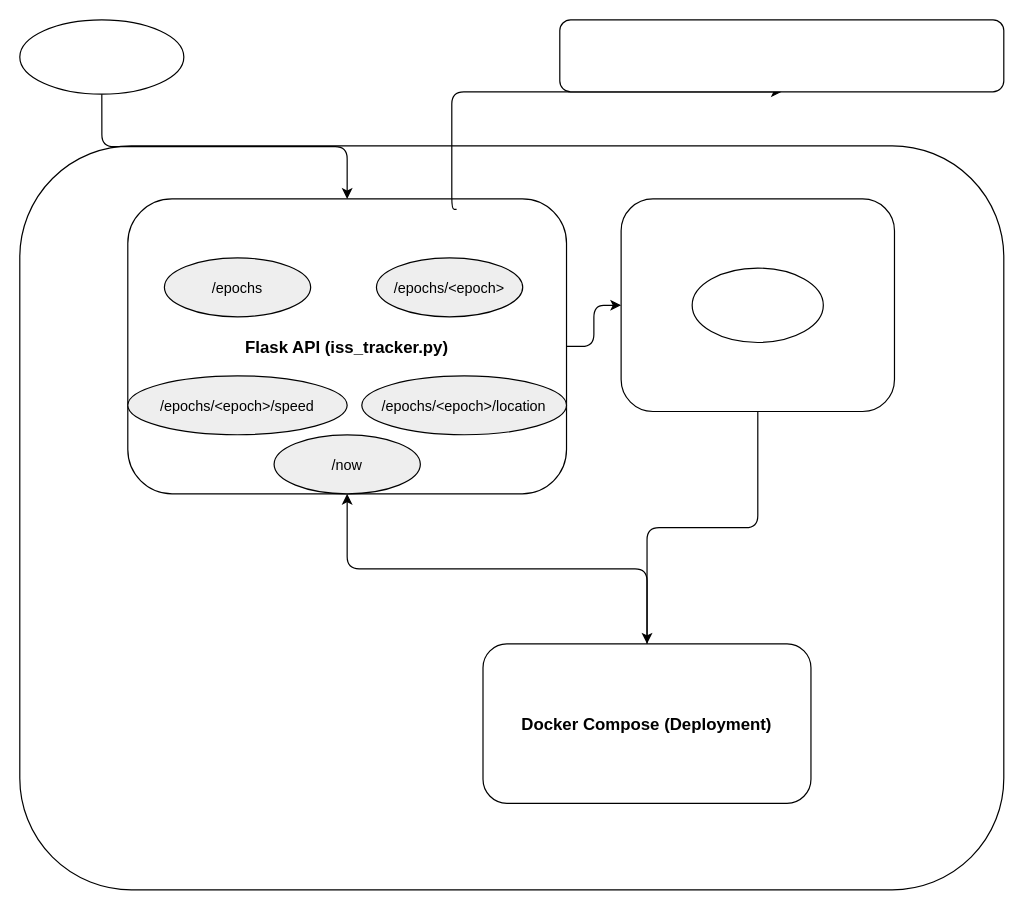
Image size: 1024x910. Some labels were removed from this diagram. The shapes that lost their labels are listed below. From the top down, each one's centre as x and y in pixels, then its label:
At (101,56): "User".
At (781,55): "NASA ISS Data".
At (757,304): "Redis Container".
